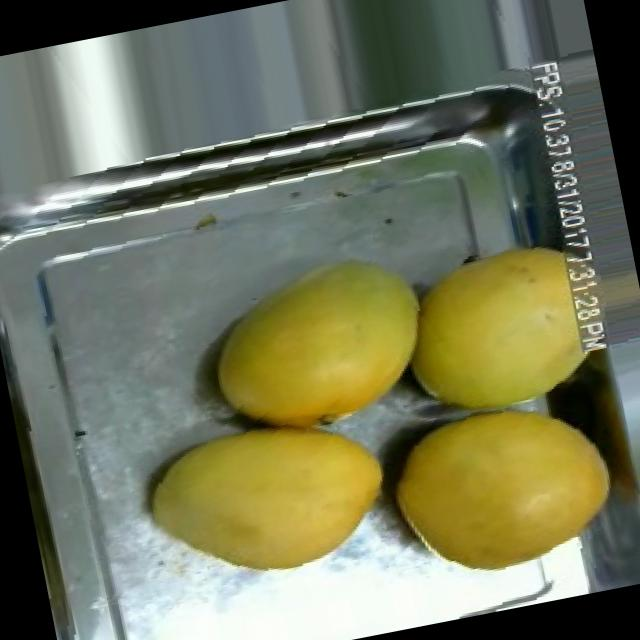fruit: (123, 388, 414, 606), (183, 234, 451, 466), (362, 382, 634, 605), (383, 232, 597, 428)
